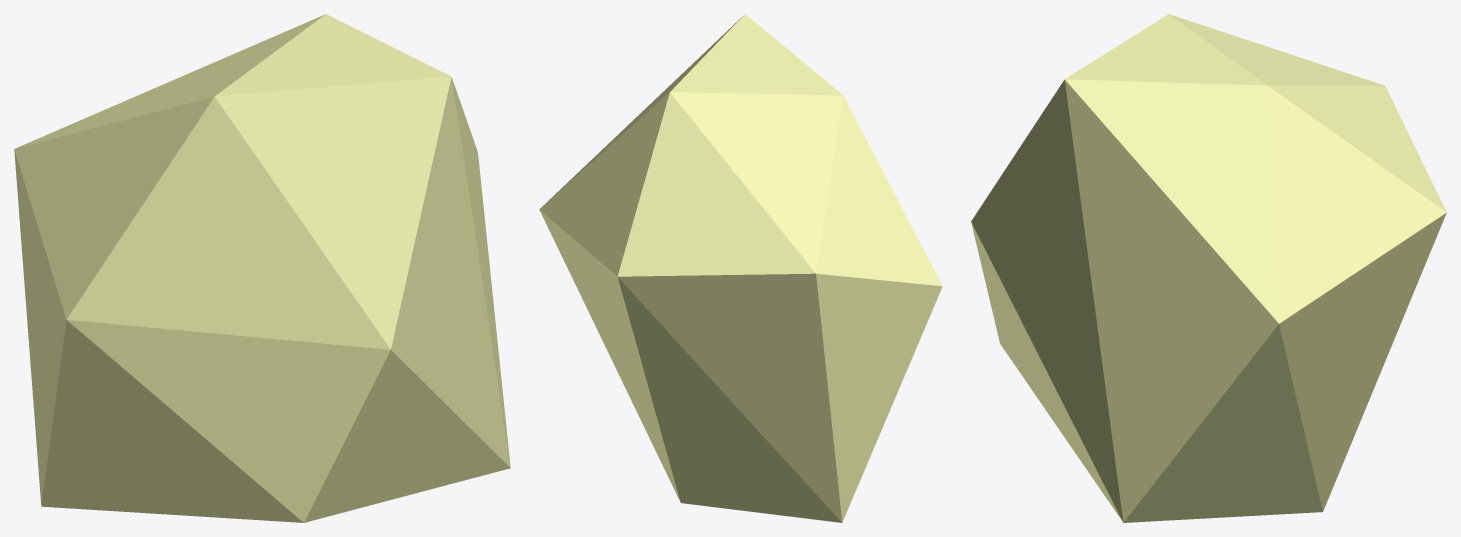
3 renders of one model, left to right at view 1: azimuth 30°, elevation 25°; view 2: azimuth 150°, elevation 25°; view 3: azimuth 270°, elevation 25°, orthographic. The views are drawn at different scales.
Visible parts, largest first — view 1: Meteor_2.001; view 2: Meteor_2.001; view 3: Meteor_2.001.
Boxes of the visible parts, bbox=[...] form: Meteor_2.001: bbox=[14, 14, 510, 522]; Meteor_2.001: bbox=[539, 14, 942, 522]; Meteor_2.001: bbox=[971, 14, 1446, 522].
Size of the model in its own units: 0.2034 by 0.1979 by 0.2108.
